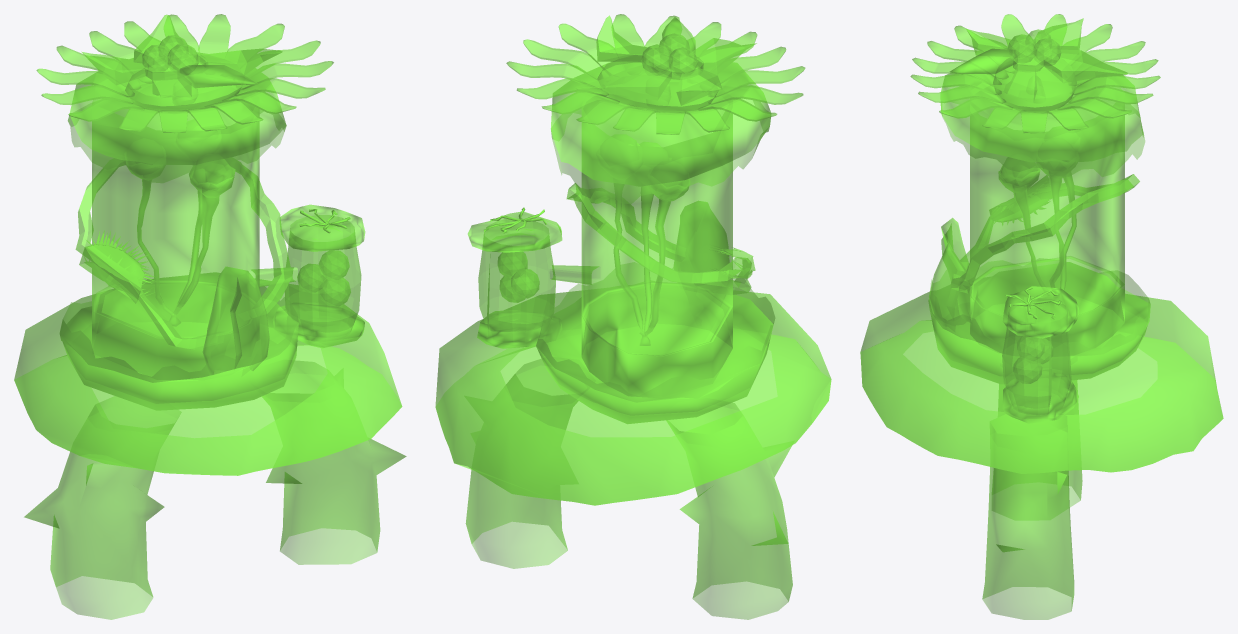
The model's file is BAZA_canplace.fbx.
3 renders of one model, left to right at view 1: azimuth 30°, elevation 25°; view 2: azimuth 150°, elevation 25°; view 3: azimuth 270°, elevation 25°, orthographic. The views are drawn at different scales.
Parts seen in each view (by area): view 1: Cube.048; view 2: Cube.048; view 3: Cube.048.
Boxes of the visible parts, <box> form: Cube.048: <box>14,14,406,619</box>; Cube.048: <box>435,14,831,619</box>; Cube.048: <box>860,14,1223,619</box>.
Size of the model in its own units: 355 by 527 by 346.
